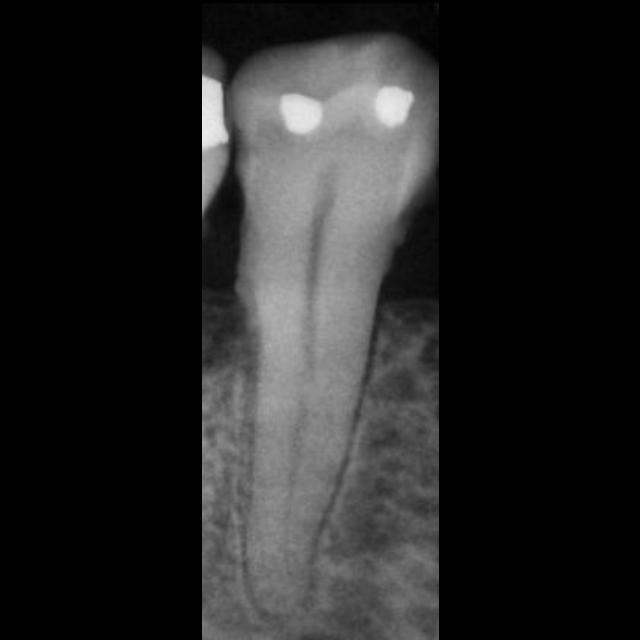tooth: (224, 36, 437, 622)
